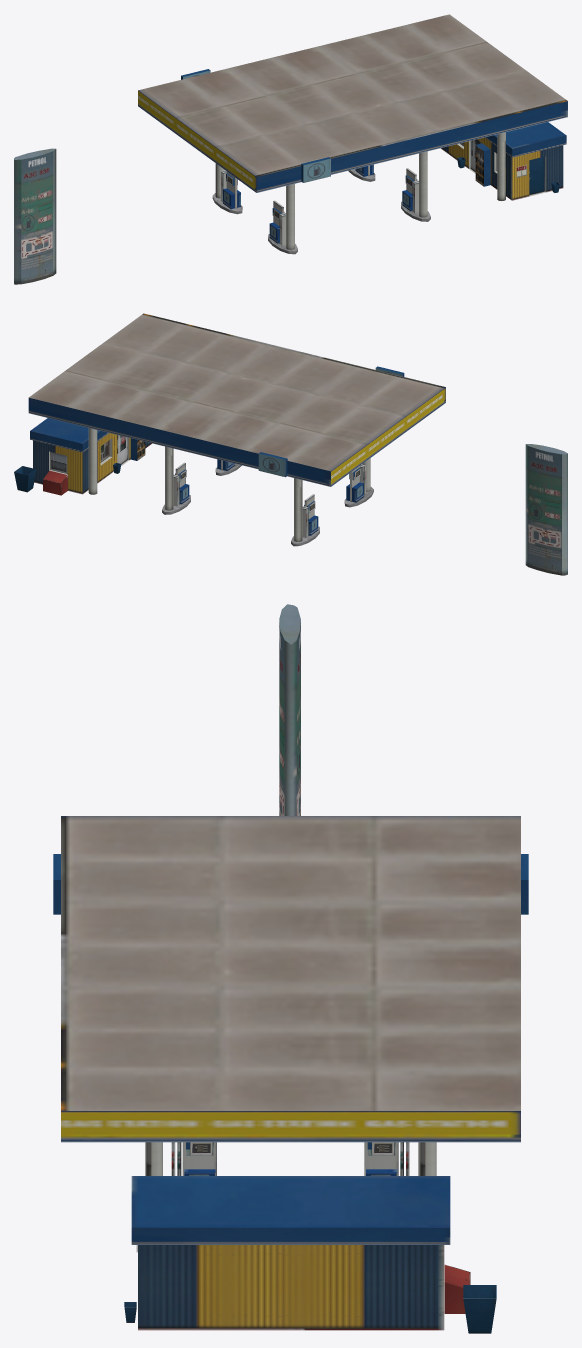
Rendered from GasStation.fbx.
3 renders of one model, top to bottom at view 1: azimuth 30°, elevation 25°; view 2: azimuth 150°, elevation 25°; view 3: azimuth 270°, elevation 25°, orthographic. The views are drawn at different scales.
Visible parts, largest first — view 1: GasStation; view 2: GasStation; view 3: GasStation.
Part boxes in pixels (box(x1,y1,x2,y2)): GasStation: box(14, 14, 567, 284); GasStation: box(14, 313, 567, 575); GasStation: box(53, 604, 528, 1333).
Size of the model in its own units: 250 by 57.66 by 103.
